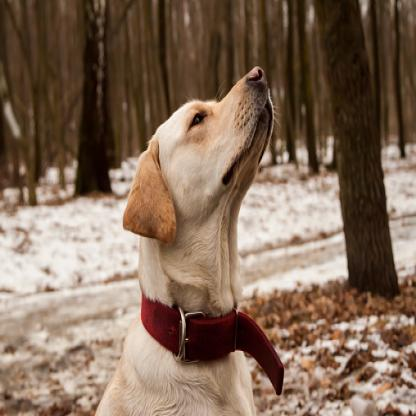Labarador Retriever: (92, 61, 277, 416)
